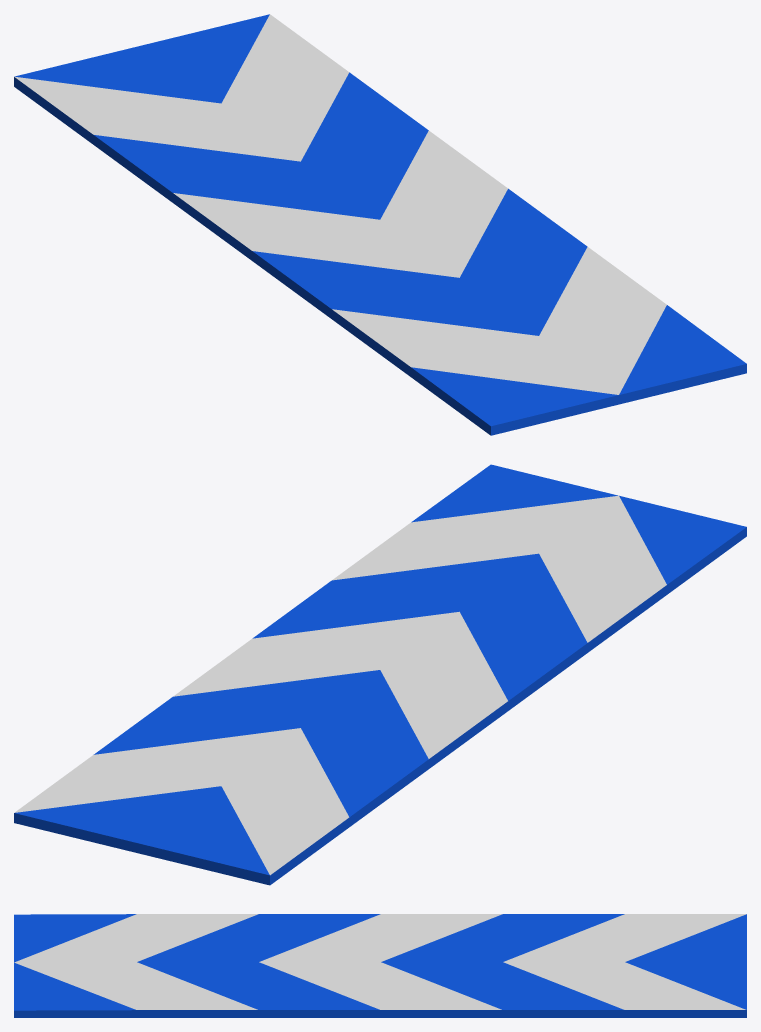
The model's file is Way02_Front_.fbx.
The picture shows the model from 3 angles, top to bottom: view 1: azimuth 30°, elevation 25°; view 2: azimuth 150°, elevation 25°; view 3: azimuth 270°, elevation 25°; orthographic projection. The views are drawn at different scales.
Visible parts, largest first — view 1: Way02_Front_; view 2: Way02_Front_; view 3: Way02_Front_.
Boxes of the visible parts, x1,y1,x2,y2 form: Way02_Front_: (14, 14, 746, 435); Way02_Front_: (14, 464, 746, 885); Way02_Front_: (14, 914, 746, 1017).
Bounding box in the file's own units: 2 × 6.45 × 0.075.
